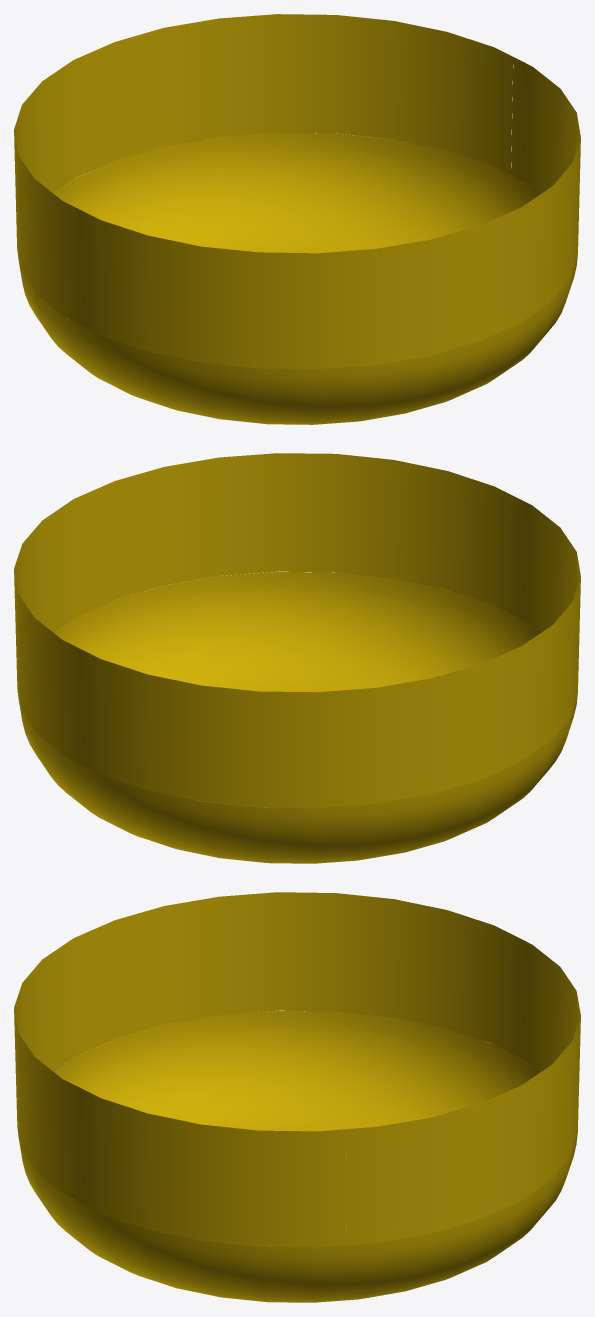
The model's file is original-4.obj.
3 renders of one model, top to bottom at view 1: azimuth 30°, elevation 25°; view 2: azimuth 150°, elevation 25°; view 3: azimuth 270°, elevation 25°, orthographic.
Visible parts, largest first — view 1: #ID24; view 2: #ID24; view 3: #ID24.
Part boxes in pixels (x1,y1,x2,y2): #ID24: (14, 14, 580, 424); #ID24: (14, 453, 580, 863); #ID24: (14, 892, 580, 1302).
Size of the model in its own units: 0.5759 by 0.2319 by 0.5772.
